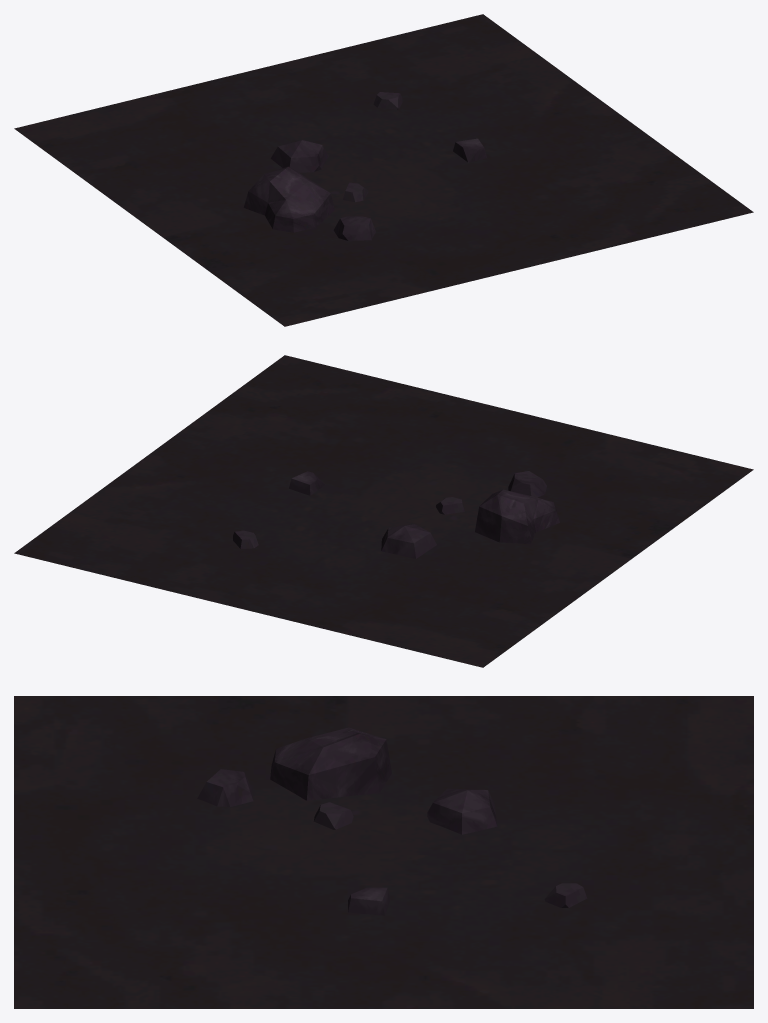
File: cave_rubble_06.fbx
3 renders of one model, top to bottom at view 1: azimuth 30°, elevation 25°; view 2: azimuth 150°, elevation 25°; view 3: azimuth 270°, elevation 25°, orthographic. The views are drawn at different scales.
Parts seen in each view (by area): view 1: cave_rubble_06-0; view 2: cave_rubble_06-0; view 3: cave_rubble_06-0.
Boxes of the visible parts, x1,y1,x2,y2 form: cave_rubble_06-0: (14, 14, 753, 326); cave_rubble_06-0: (14, 355, 753, 667); cave_rubble_06-0: (14, 696, 753, 1008).
Size of the model in its own units: 4 by 0.3424 by 4.
